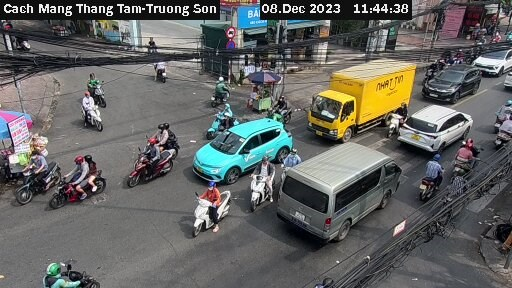car: (273, 139, 401, 245), (194, 117, 291, 184), (402, 99, 469, 153), (424, 61, 484, 105), (475, 44, 512, 76)
motorbike: (56, 162, 111, 204), (188, 183, 233, 232), (13, 157, 59, 204), (35, 261, 109, 288), (239, 161, 277, 209), (129, 149, 174, 189), (413, 159, 449, 203), (140, 127, 187, 160), (70, 95, 111, 131), (453, 139, 485, 178), (82, 75, 119, 104), (206, 107, 235, 135), (385, 102, 408, 133), (202, 82, 234, 104), (266, 97, 293, 122), (146, 61, 175, 84)
truck: (310, 58, 415, 141)
